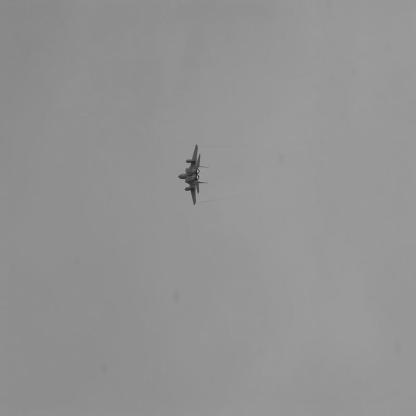F15: (179, 145, 210, 207)
